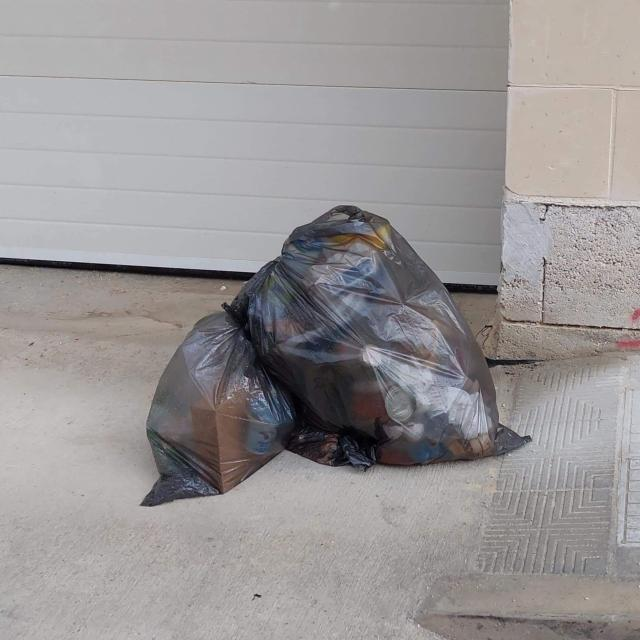Mixed Waste -Black Bag-: (227, 203, 536, 472), (139, 310, 295, 511)
